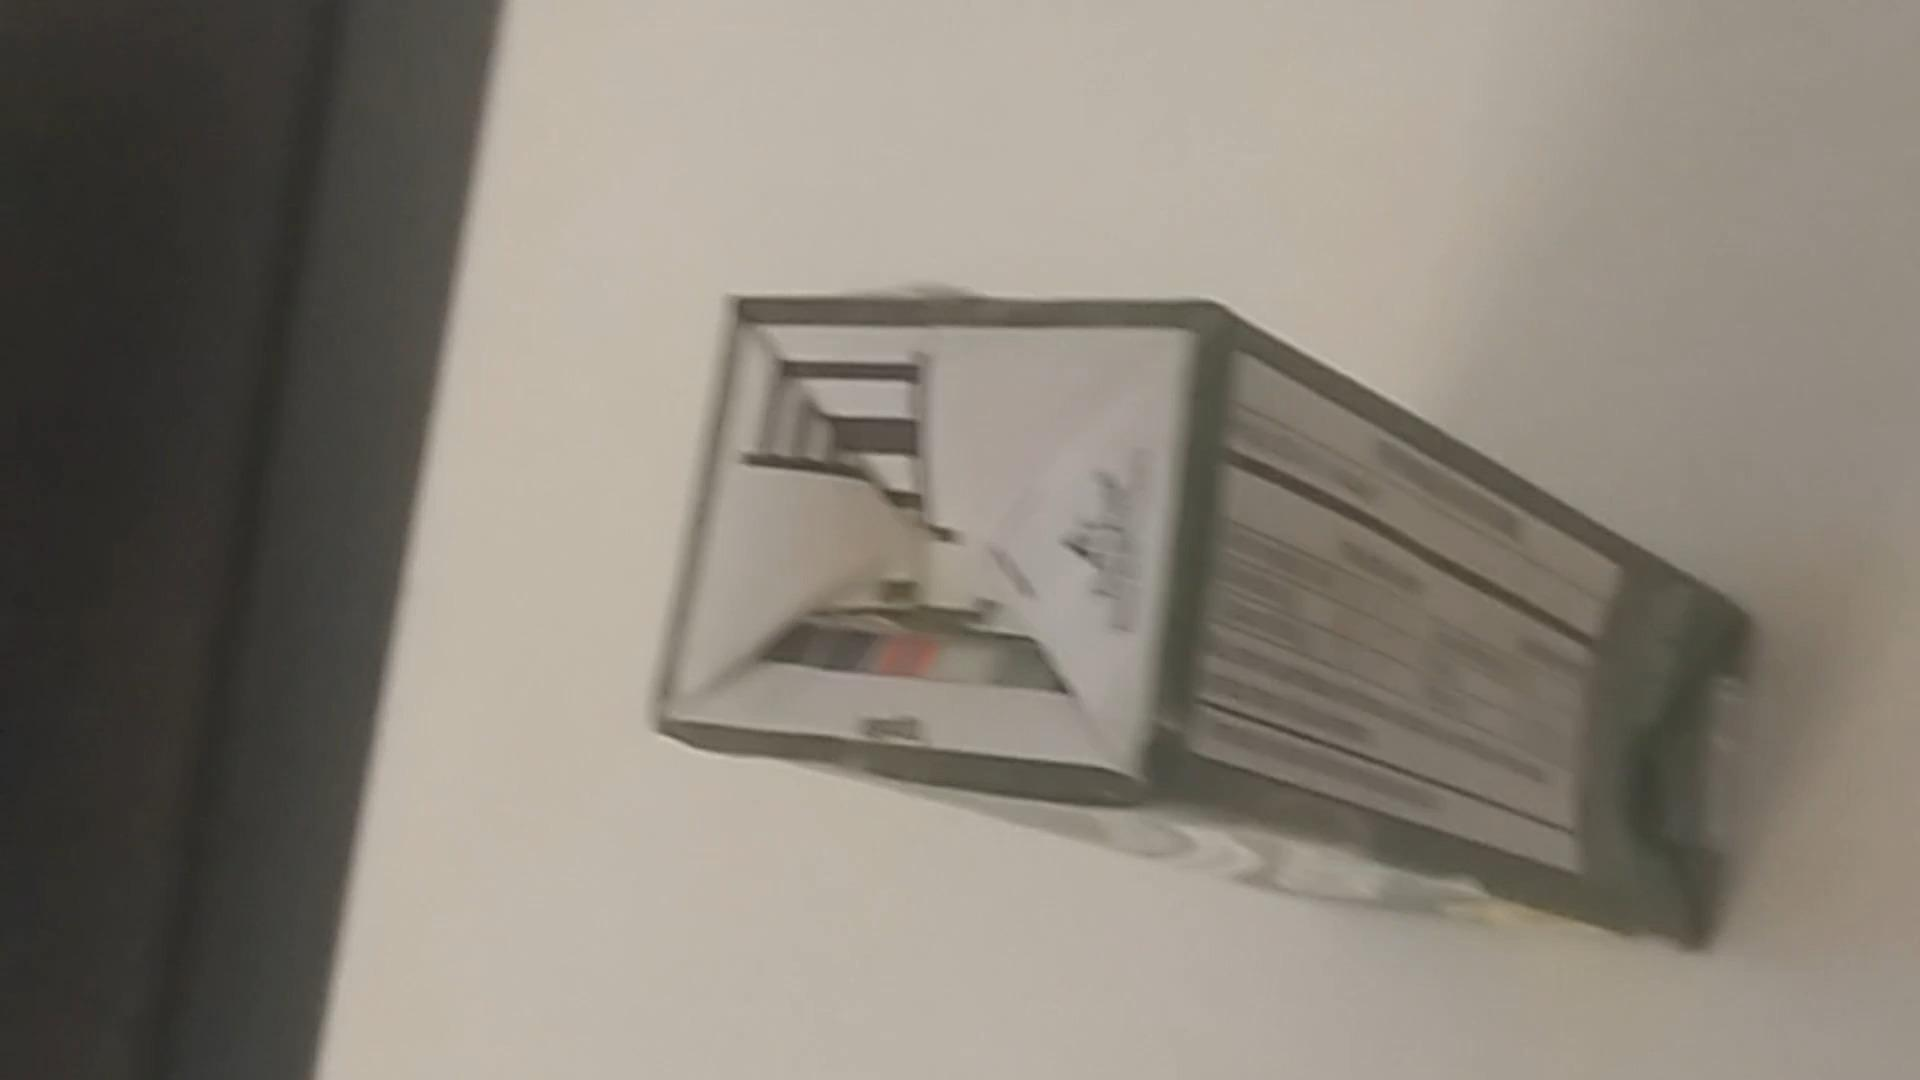coco: (636, 285, 1767, 963)
